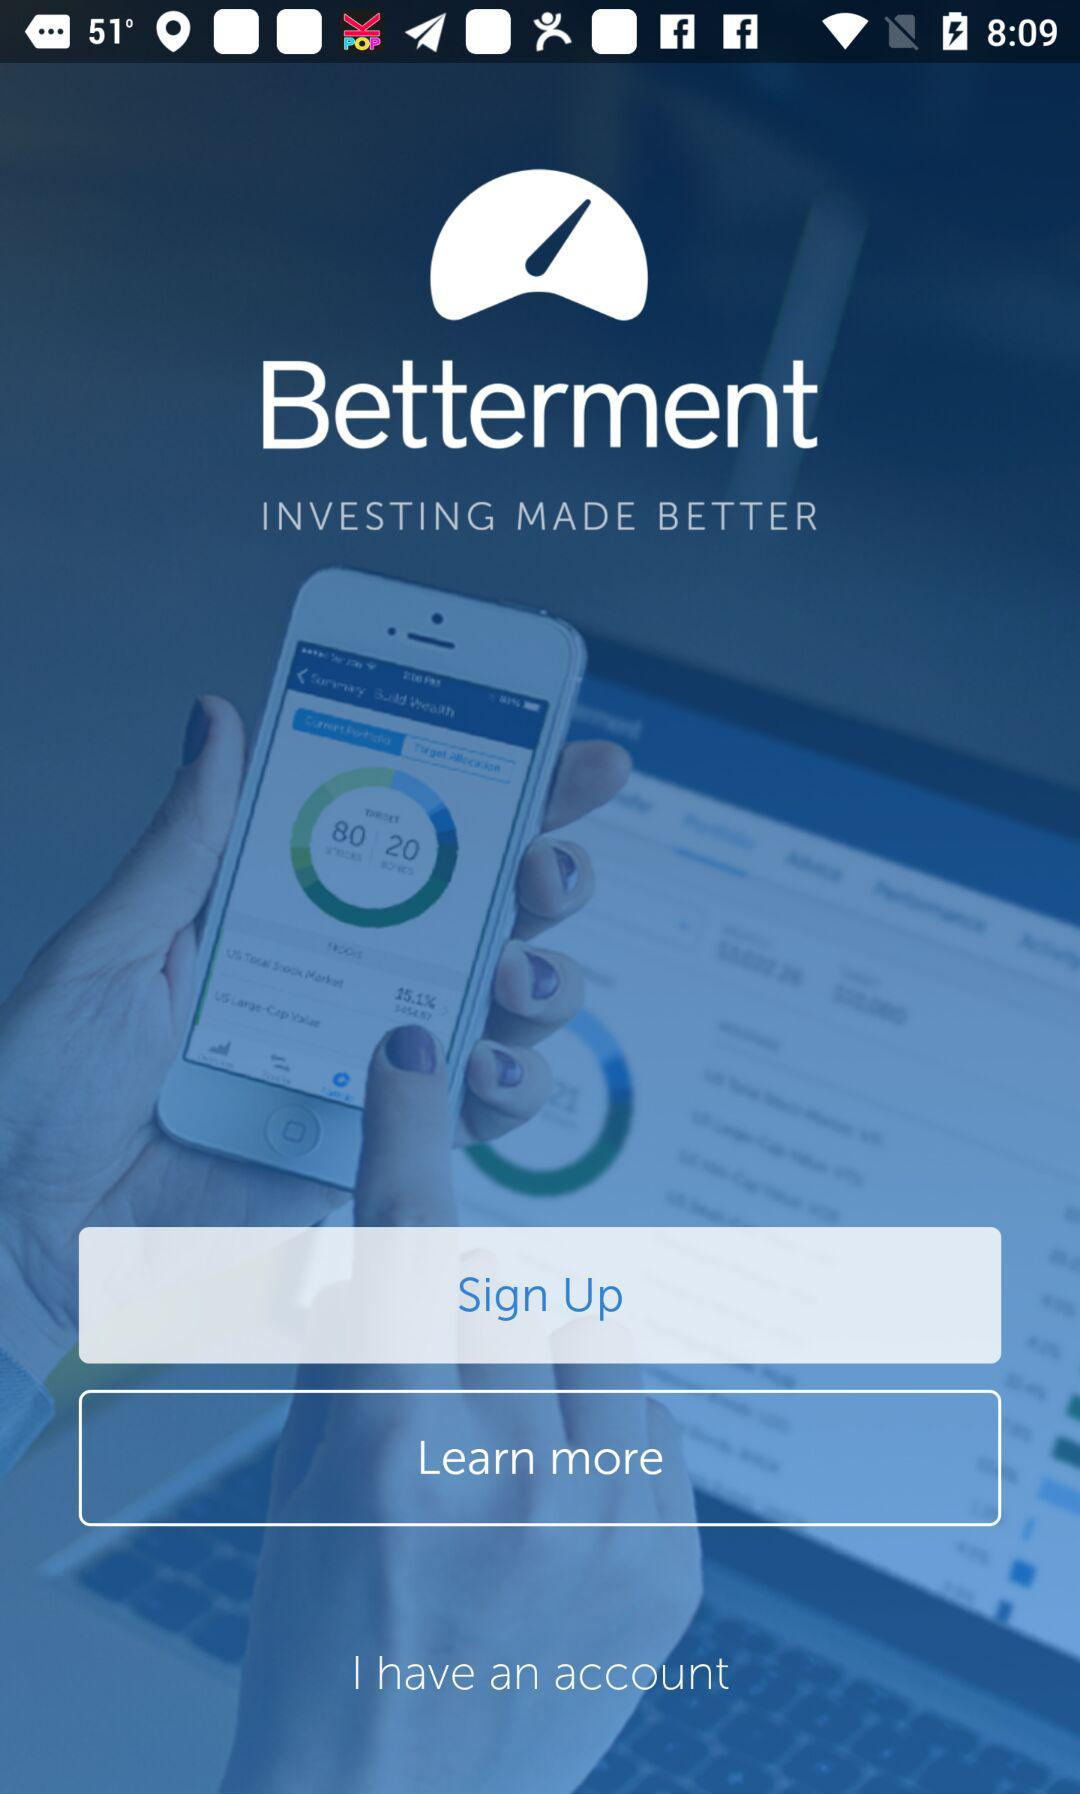BackgroundImage: (1, 64, 1079, 1794)
Image: (429, 168, 650, 324)
Text: (263, 358, 821, 454), (261, 498, 819, 536), (354, 1656, 730, 1693)
TextButton: (79, 1389, 1002, 1527), (79, 1228, 1002, 1365)
UpperTaskBar: (1, 1, 1080, 64)
